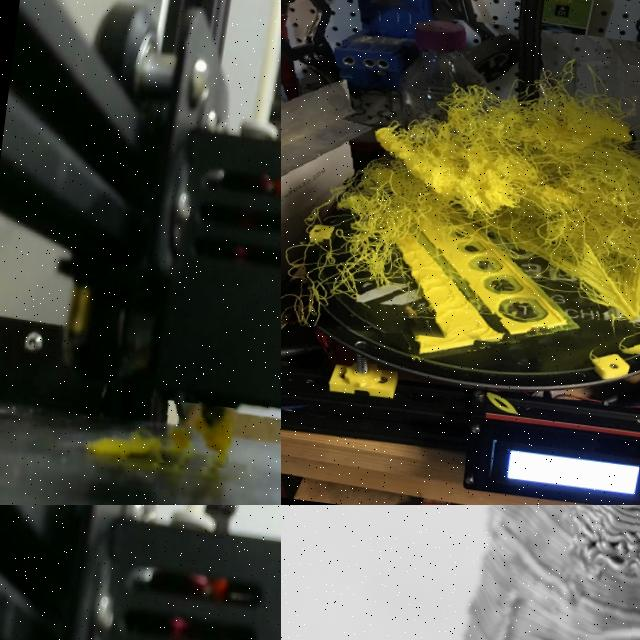spaghetti: (281, 0, 640, 375), (364, 505, 640, 640), (89, 404, 232, 468)
